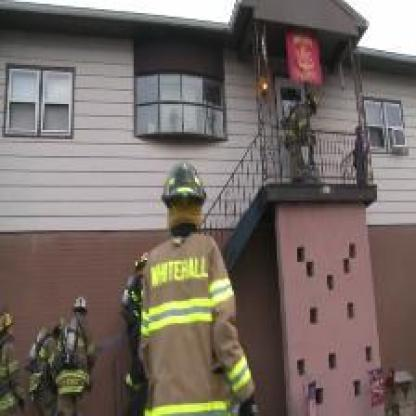other: (142, 292, 230, 324), (275, 34, 329, 85), (161, 194, 204, 232), (260, 73, 268, 100)
